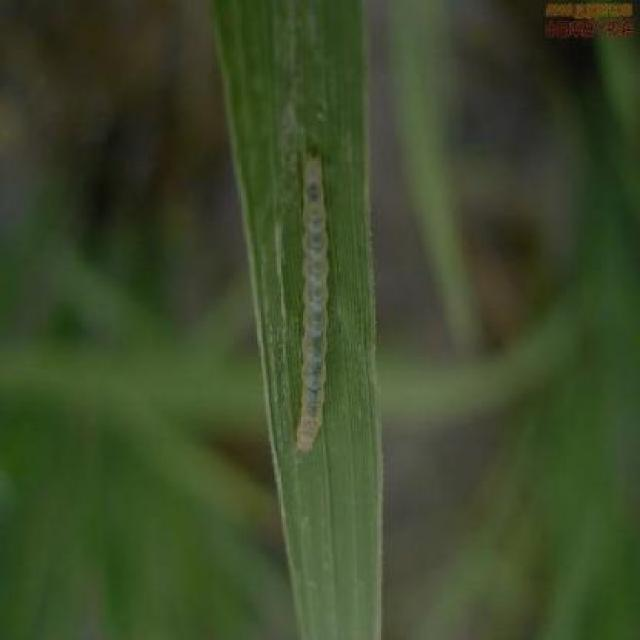leaf-folder: (268, 128, 340, 506)
